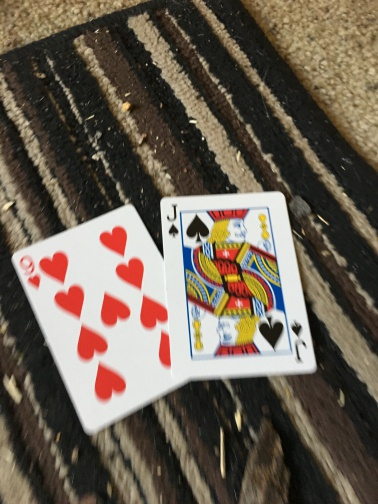jack: (158, 189, 318, 377)
nine: (10, 224, 177, 431)
